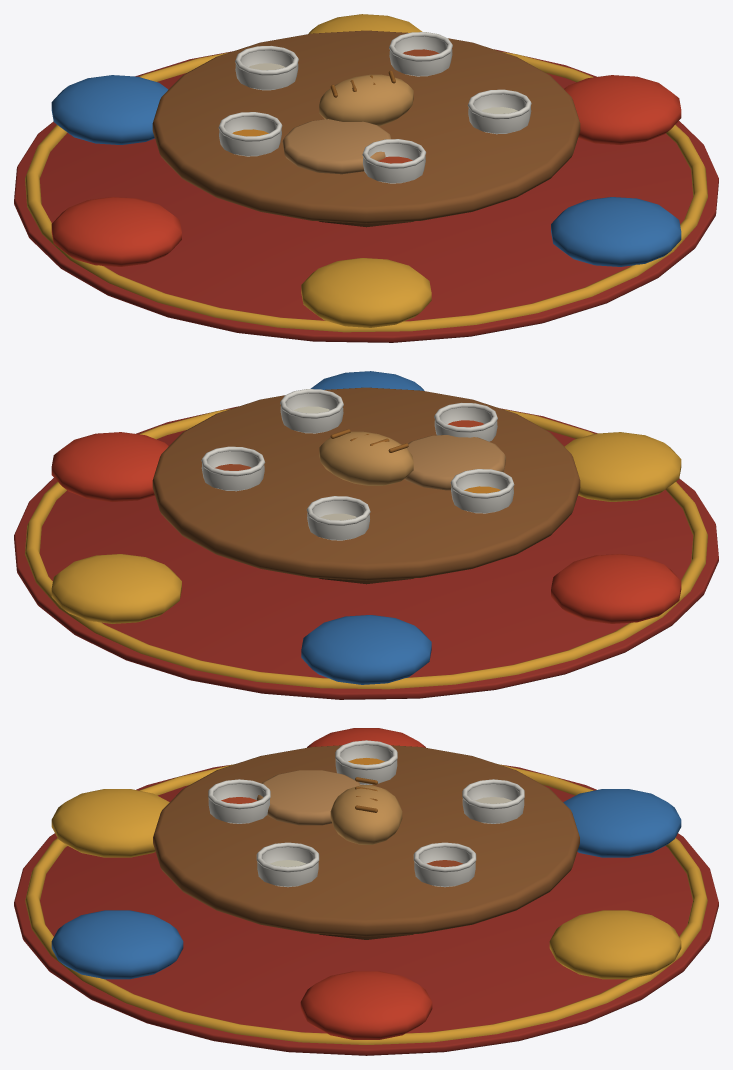
Rendered from sofra.fbx.
3 renders of one model, top to bottom at view 1: azimuth 30°, elevation 25°; view 2: azimuth 150°, elevation 25°; view 3: azimuth 270°, elevation 25°, orthographic.
Parts seen in each view (by area): view 1: sofra; view 2: sofra; view 3: sofra.
Part boxes in pixels (<box>): sofra: <box>14,14,718,342</box>; sofra: <box>14,371,718,699</box>; sofra: <box>14,728,718,1055</box>.
Bounding box in the file's own units: 3.8 × 0.676 × 3.8.
